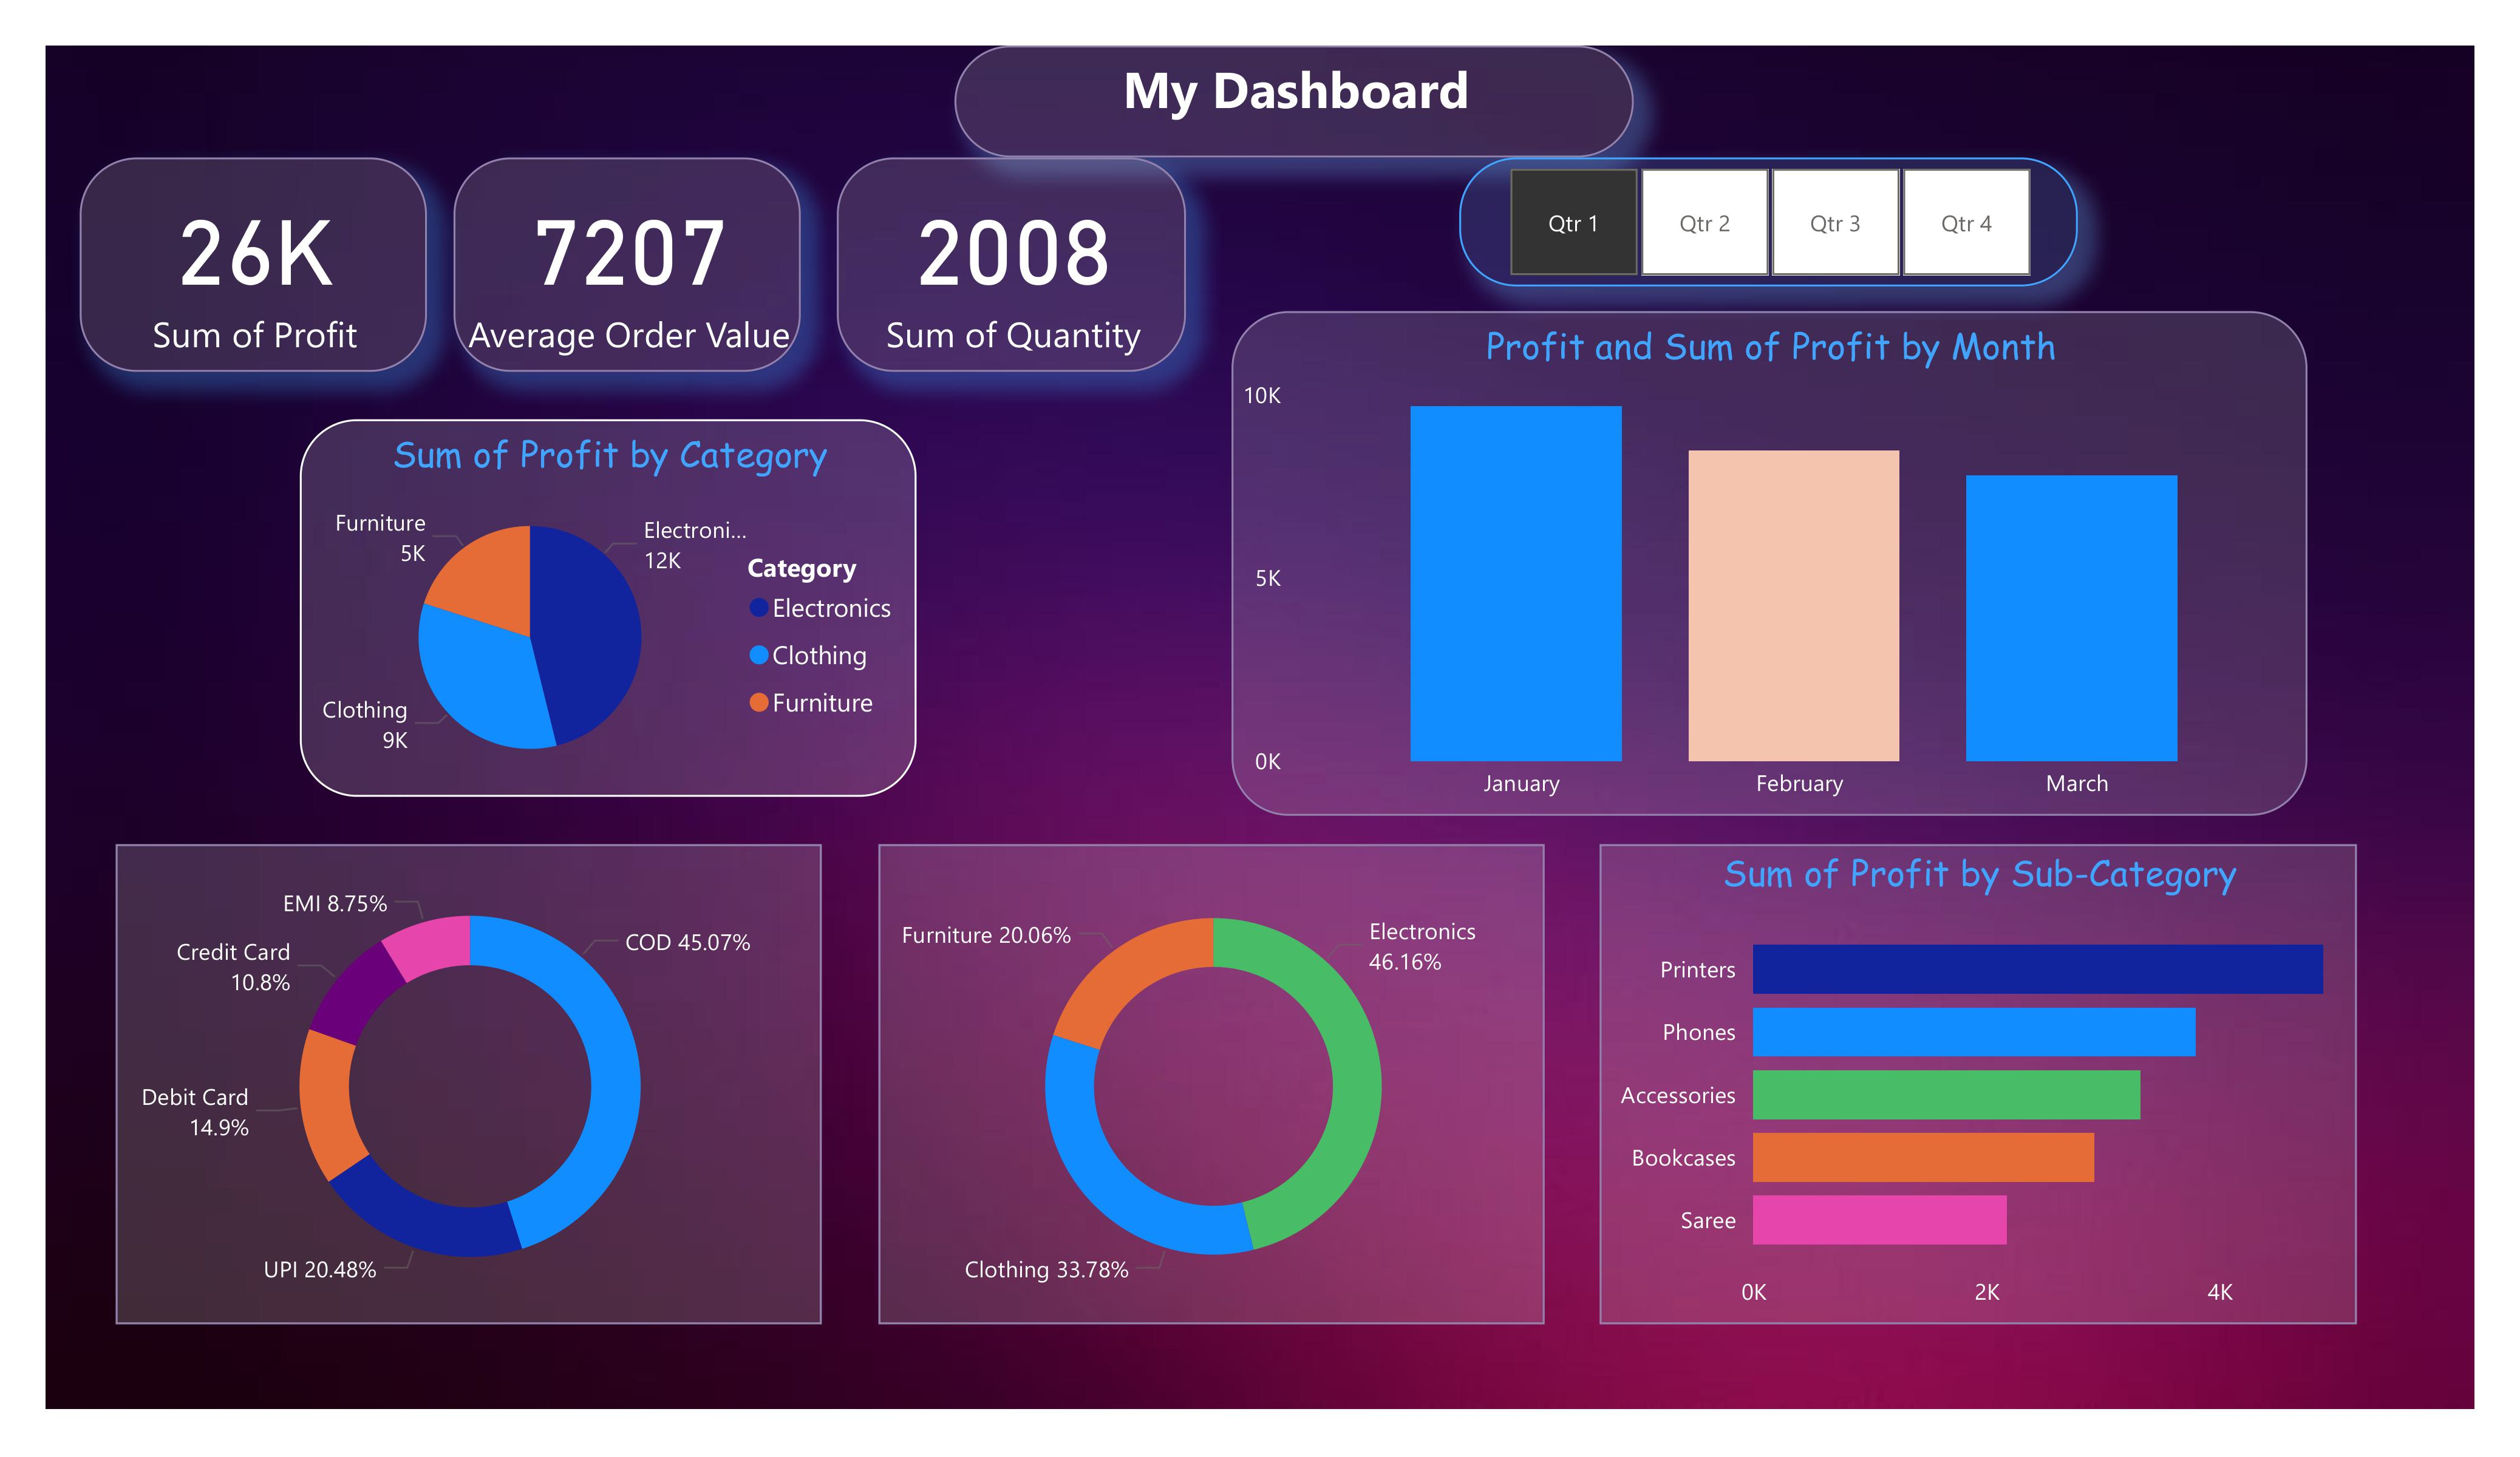

The page's visual inventory and layout, read from the dashboard file:
{"tool":"powerbi","page":{"name":"Page 1","canvas":[1280,720],"ordinal":0},"visuals":[{"type":"textbox","box":[478.8,0,358.2,59.1],"z":0},{"type":"columnChart","title":" Profit and Sum of Profit by Month","fields":{"Y":["Sum(Details.Profit)","Sum(Details.Profit)"],"Category":["Orders.Order Date.Variation.Date Hierarchy.Month"]},"box":[624.7,139.9,566.8,266.5],"z":1000},{"type":"barChart","fields":{"Category":["Details.Sub-Category"],"Y":["Sum(Details.Profit)"]},"box":[818.9,420.9,399.2,253.3],"z":2000},{"type":"donutChart","fields":{"Category":["Details.Category"],"Series":["Details.Category"],"Y":["Sum(Details.Profit)"]},"box":[439,420.9,351,253.3],"z":3000},{"type":"donutChart","fields":{"Y":["CountNonNull(Details.PaymentMode)"],"Category":["Details.PaymentMode"]},"box":[37.4,420.9,371.5,253.3],"z":4000},{"type":"card","fields":{"Values":["Sum(Details.Profit)"]},"box":[18.1,59.1,183.3,113],"z":5000},{"type":"card","fields":{"Values":["Sum(Details.Average Order Valus)"]},"box":[214.7,59.1,183.3,113.4],"z":6000},{"type":"card","fields":{"Values":["Sum(Details.Quantity)"]},"box":[417.3,59.1,183.3,113.4],"z":7000},{"type":"pieChart","fields":{"Category":["Details.Category"],"Y":["Sum(Details.Profit)"]},"box":[133.9,196.6,325.6,199],"z":8000},{"type":"slicer","fields":{"Values":["Orders.Order Date.Variation.Date Hierarchy.Quarter"]},"box":[745.3,59.1,325.6,67.5],"z":9000}]}

Visuals, with their boxes in screenshot pixels (x1, y1, x2, y2):
textbox: left=954, top=46, right=1634, bottom=158
" Profit and Sum of Profit by Month" columnChart: left=1231, top=311, right=2306, bottom=817
barChart - Details.Sub-Category x Sum(Details.Profit): left=1599, top=844, right=2357, bottom=1325
donutChart - Details.Category x Details.Category: left=879, top=844, right=1545, bottom=1325
donutChart - CountNonNull(Details.PaymentMode) x Details.PaymentMode: left=117, top=844, right=822, bottom=1325
card - Sum(Details.Profit): left=80, top=158, right=427, bottom=372
card - Sum(Details.Average Order Valus): left=453, top=158, right=801, bottom=373
card - Sum(Details.Quantity): left=837, top=158, right=1185, bottom=373
pieChart - Details.Category x Sum(Details.Profit): left=299, top=418, right=918, bottom=796
slicer - Orders.Order Date.Variation.Date Hierarchy.Quarter: left=1460, top=158, right=2078, bottom=286
